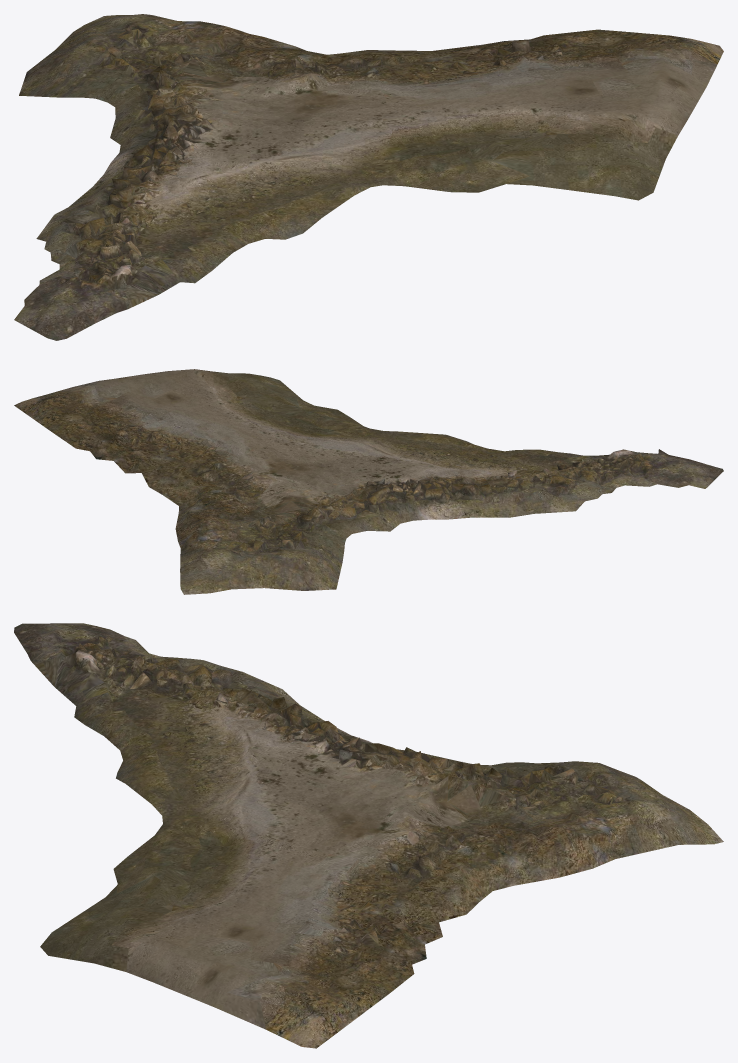
The picture shows the model from 3 angles, top to bottom: view 1: azimuth 30°, elevation 25°; view 2: azimuth 150°, elevation 25°; view 3: azimuth 270°, elevation 25°; orthographic projection. The views are drawn at different scales.
Visible parts, largest first — view 1: coast_rocks_01; view 2: coast_rocks_01; view 3: coast_rocks_01.
Boxes of the visible parts, bbox=[...] form: coast_rocks_01: bbox=[14, 14, 723, 340]; coast_rocks_01: bbox=[14, 369, 723, 594]; coast_rocks_01: bbox=[14, 623, 723, 1048].
Size of the model in its own units: 59.47 by 3.33 by 42.6.
Materials: 1 (1 with a texture image).
